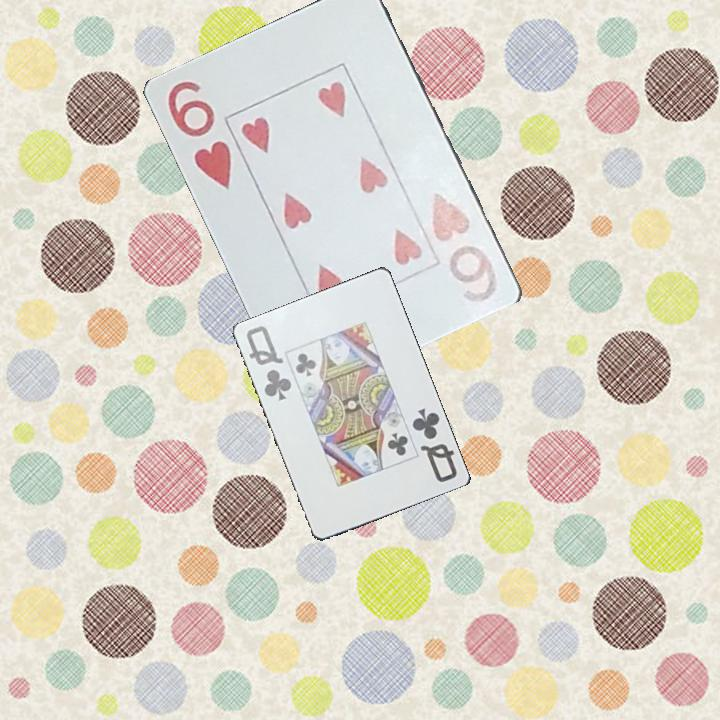6h: (428, 185, 505, 306), (164, 77, 235, 192)
Qc: (242, 322, 295, 404), (409, 404, 460, 486)
